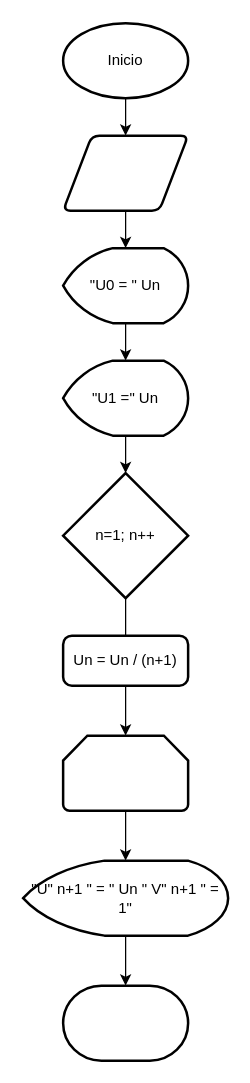
Some shapes in this 250 by 1083 pixel diagram are drawn without their labels. Each missing label, with the centre of its shape:
Fin: [125,1022]
n<=9: [125,772]
Un = 1.0: [125,172]
